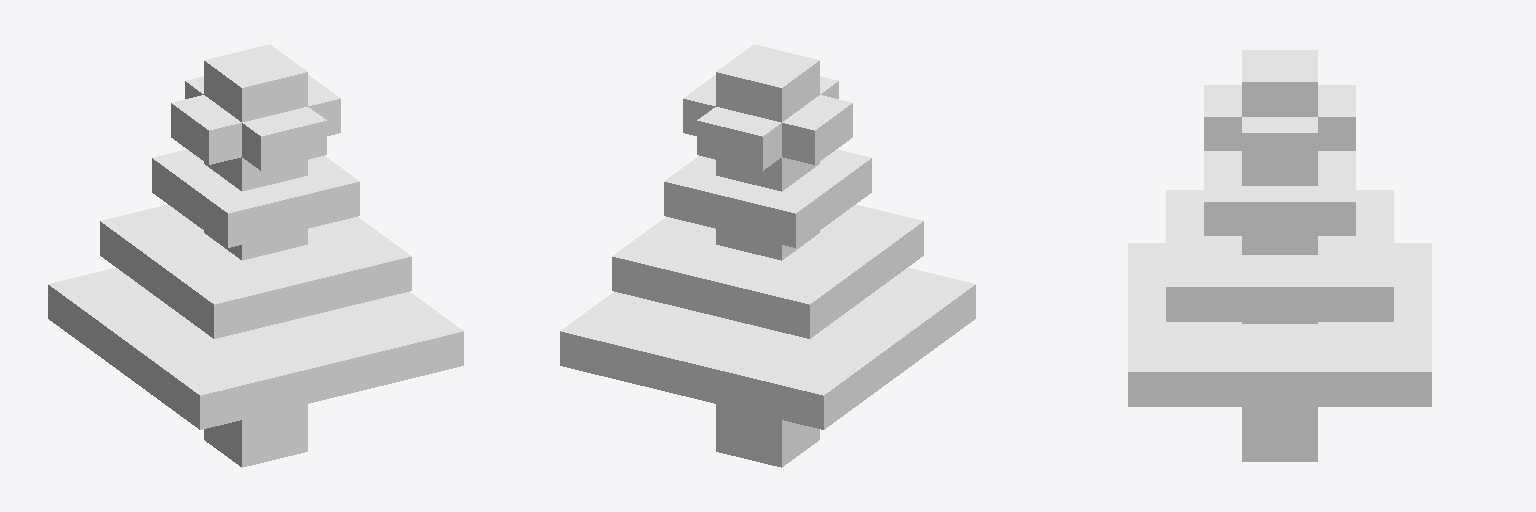
Rendered from JungleTree3.obj.
The picture shows the model from 3 angles: view 1: azimuth 30°, elevation 25°; view 2: azimuth 150°, elevation 25°; view 3: azimuth 270°, elevation 25°; orthographic projection.
Size of the model in its own units: 8 by 11 by 8.